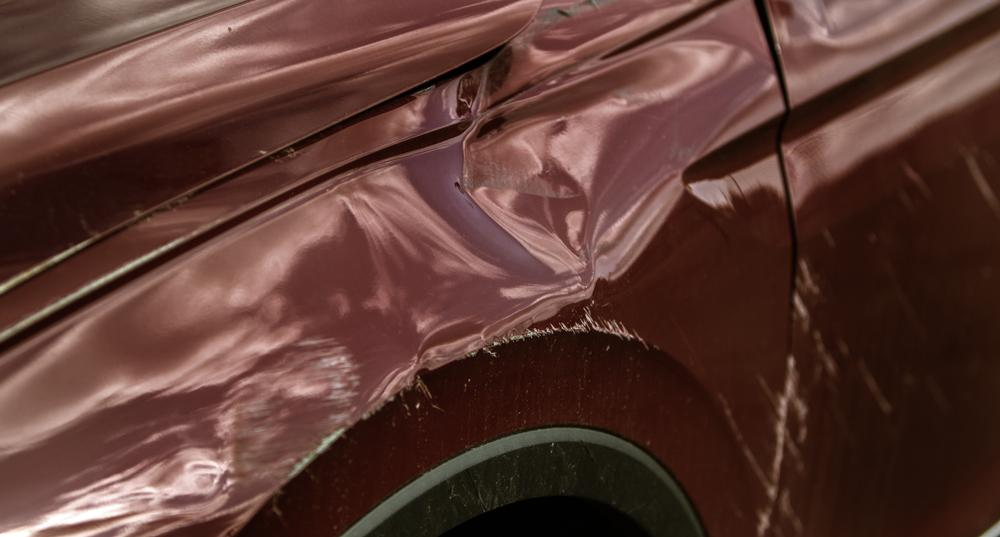dent: (71, 42, 769, 537)
scratch: (492, 305, 654, 354)
